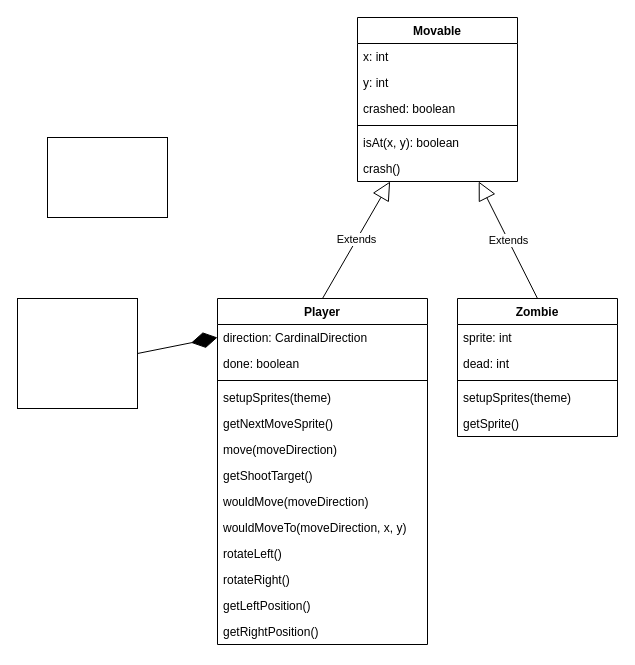
The diagram is 635 pixels wide and 665 high, and some of its shapes have lost their labels. The shapes that lost their labels are listed below. From the top down, each one's centre as x and y in pixels, then its label:
At point 107,177: "<<Enumration>> MoveDirection Forth Back".
At point 77,353: "<<Enumration>> CardinalDirection North East South West".
